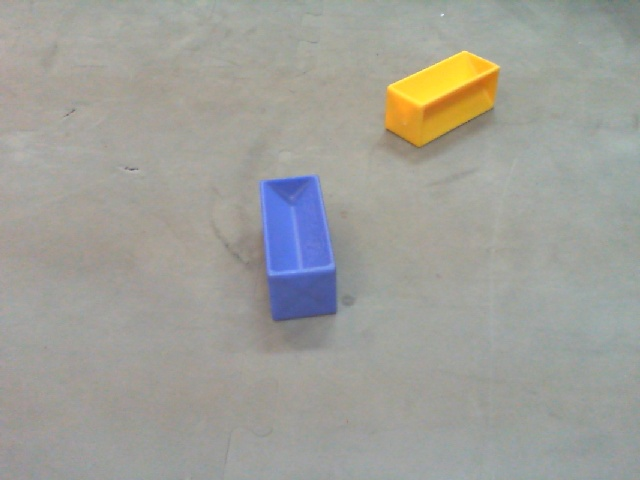BlueSample: (260, 173, 342, 322)
YellowSample: (384, 48, 501, 147)
